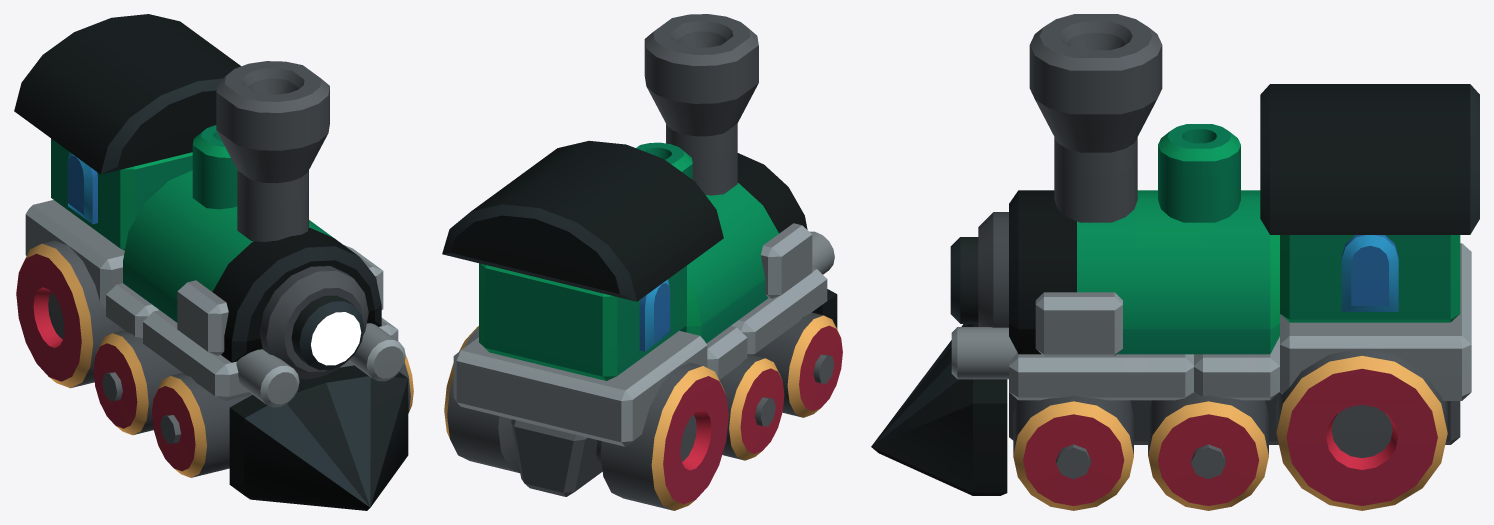
The model's file is train_locomotive.gltf.
3 renders of one model, left to right at view 1: azimuth 30°, elevation 25°; view 2: azimuth 150°, elevation 25°; view 3: azimuth 270°, elevation 25°, orthographic. The views are drawn at different scales.
Parts seen in each view (by area): view 1: train_locomotive; view 2: train_locomotive; view 3: train_locomotive.
Boxes of the visible parts, x1=… form: train_locomotive: x1=14, y1=14, x2=413, y2=510; train_locomotive: x1=442, y1=14, x2=842, y2=510; train_locomotive: x1=871, y1=14, x2=1479, y2=510.
Size of the model in its own units: 0.4324 by 0.6487 by 0.8578.
2 materials, 2 textured.
